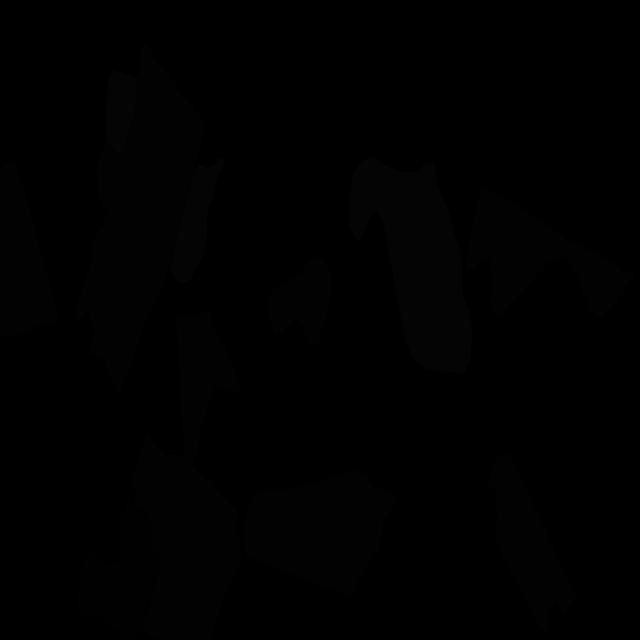cardboard: (74, 41, 206, 394), (466, 185, 636, 324), (131, 432, 242, 640), (244, 470, 397, 596), (488, 451, 577, 631), (0, 160, 60, 338), (176, 312, 242, 459), (268, 256, 331, 347)
rigid_plastic: (76, 495, 160, 640)
soft_plastic: (349, 156, 472, 374), (170, 158, 226, 285), (106, 70, 138, 154)
